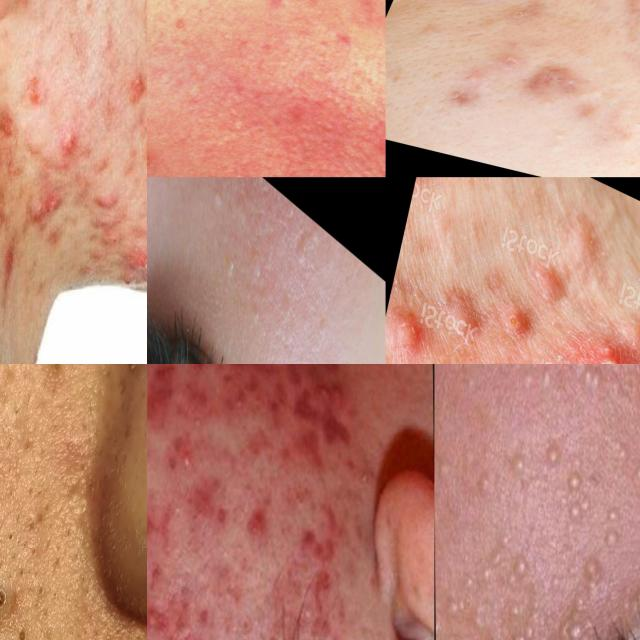acne_scars: (524, 51, 582, 104), (303, 562, 336, 614), (605, 0, 640, 41), (30, 192, 68, 228)
comedone: (536, 125, 586, 160), (450, 54, 494, 86), (102, 224, 131, 264), (287, 478, 311, 525), (585, 81, 615, 104), (13, 621, 33, 640), (0, 582, 10, 618)
crystanlline: (123, 61, 147, 116)
cystic: (433, 276, 492, 358), (385, 290, 427, 364), (504, 297, 540, 355)
flat_wart: (223, 245, 237, 289), (251, 298, 263, 329)
folliculitis: (352, 453, 372, 489)
milium: (546, 551, 605, 640), (566, 460, 594, 530), (493, 550, 527, 605), (603, 502, 624, 550), (506, 443, 530, 482), (510, 613, 542, 640), (208, 179, 226, 219), (580, 364, 604, 392), (543, 436, 561, 472), (186, 401, 206, 432), (631, 458, 640, 488)
papule: (312, 370, 345, 416)
pustule: (171, 436, 197, 476), (59, 130, 83, 165)
sebo-crystan-conglo: (582, 325, 640, 364)
